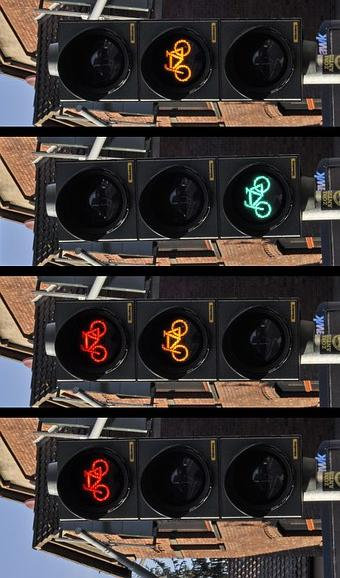trafic: (59, 440, 302, 515), (55, 300, 298, 375), (54, 163, 297, 238), (58, 22, 301, 97)
